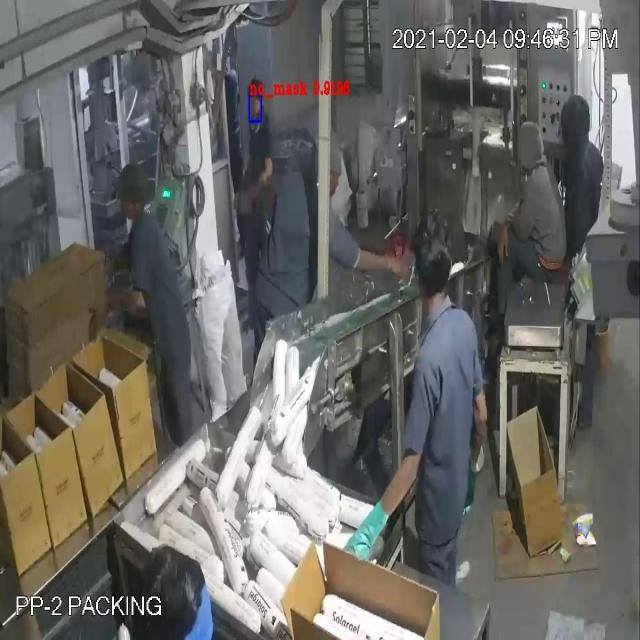No_Gloves: (33, 54, 478, 520)
